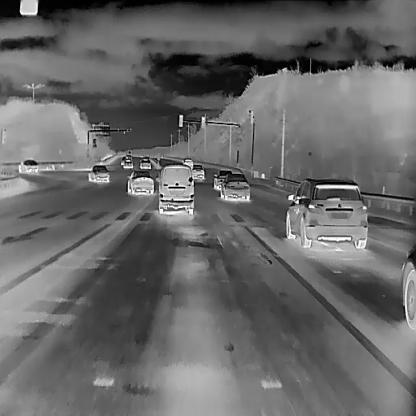car: (285, 176, 367, 249), (156, 163, 195, 215), (220, 173, 252, 202), (126, 169, 154, 195), (87, 163, 111, 185), (213, 168, 233, 190), (18, 159, 39, 173), (190, 163, 205, 181), (120, 153, 133, 168), (139, 156, 152, 169), (182, 156, 193, 169)
